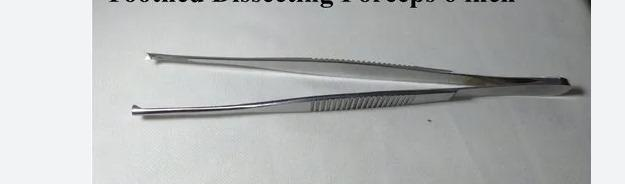Disscting Forceps: (126, 42, 576, 121)
